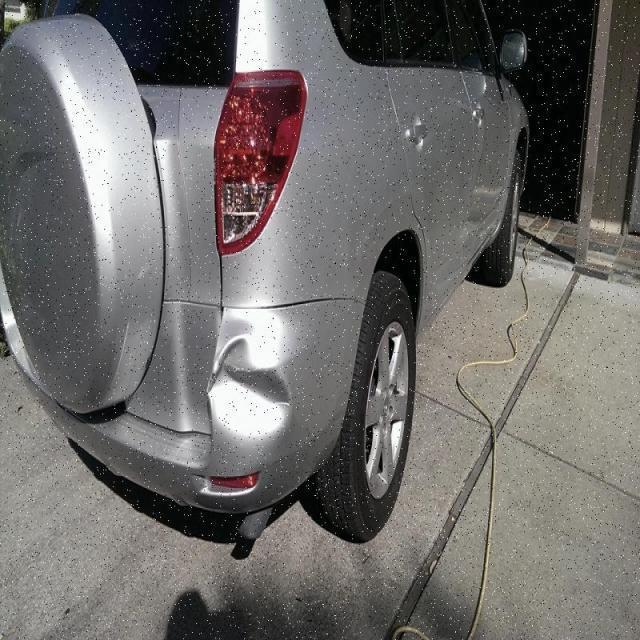dent: (200, 310, 296, 445)
